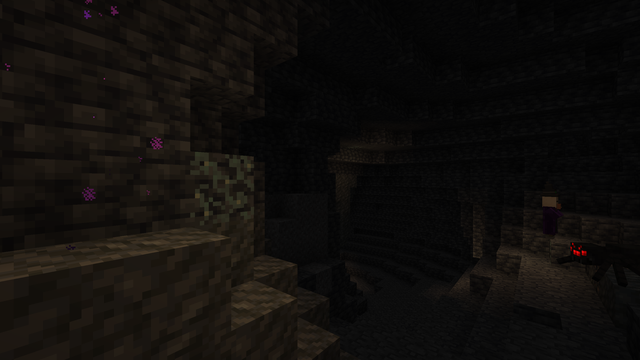araignees: (568, 234, 637, 285)
sorcieres: (541, 194, 559, 240)
